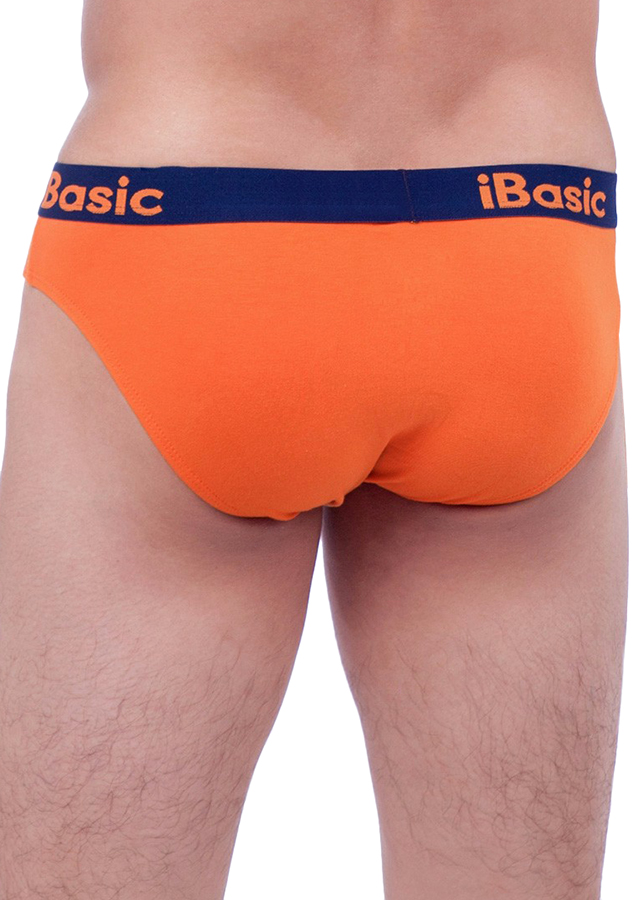iBasic: (467, 162, 615, 227)
